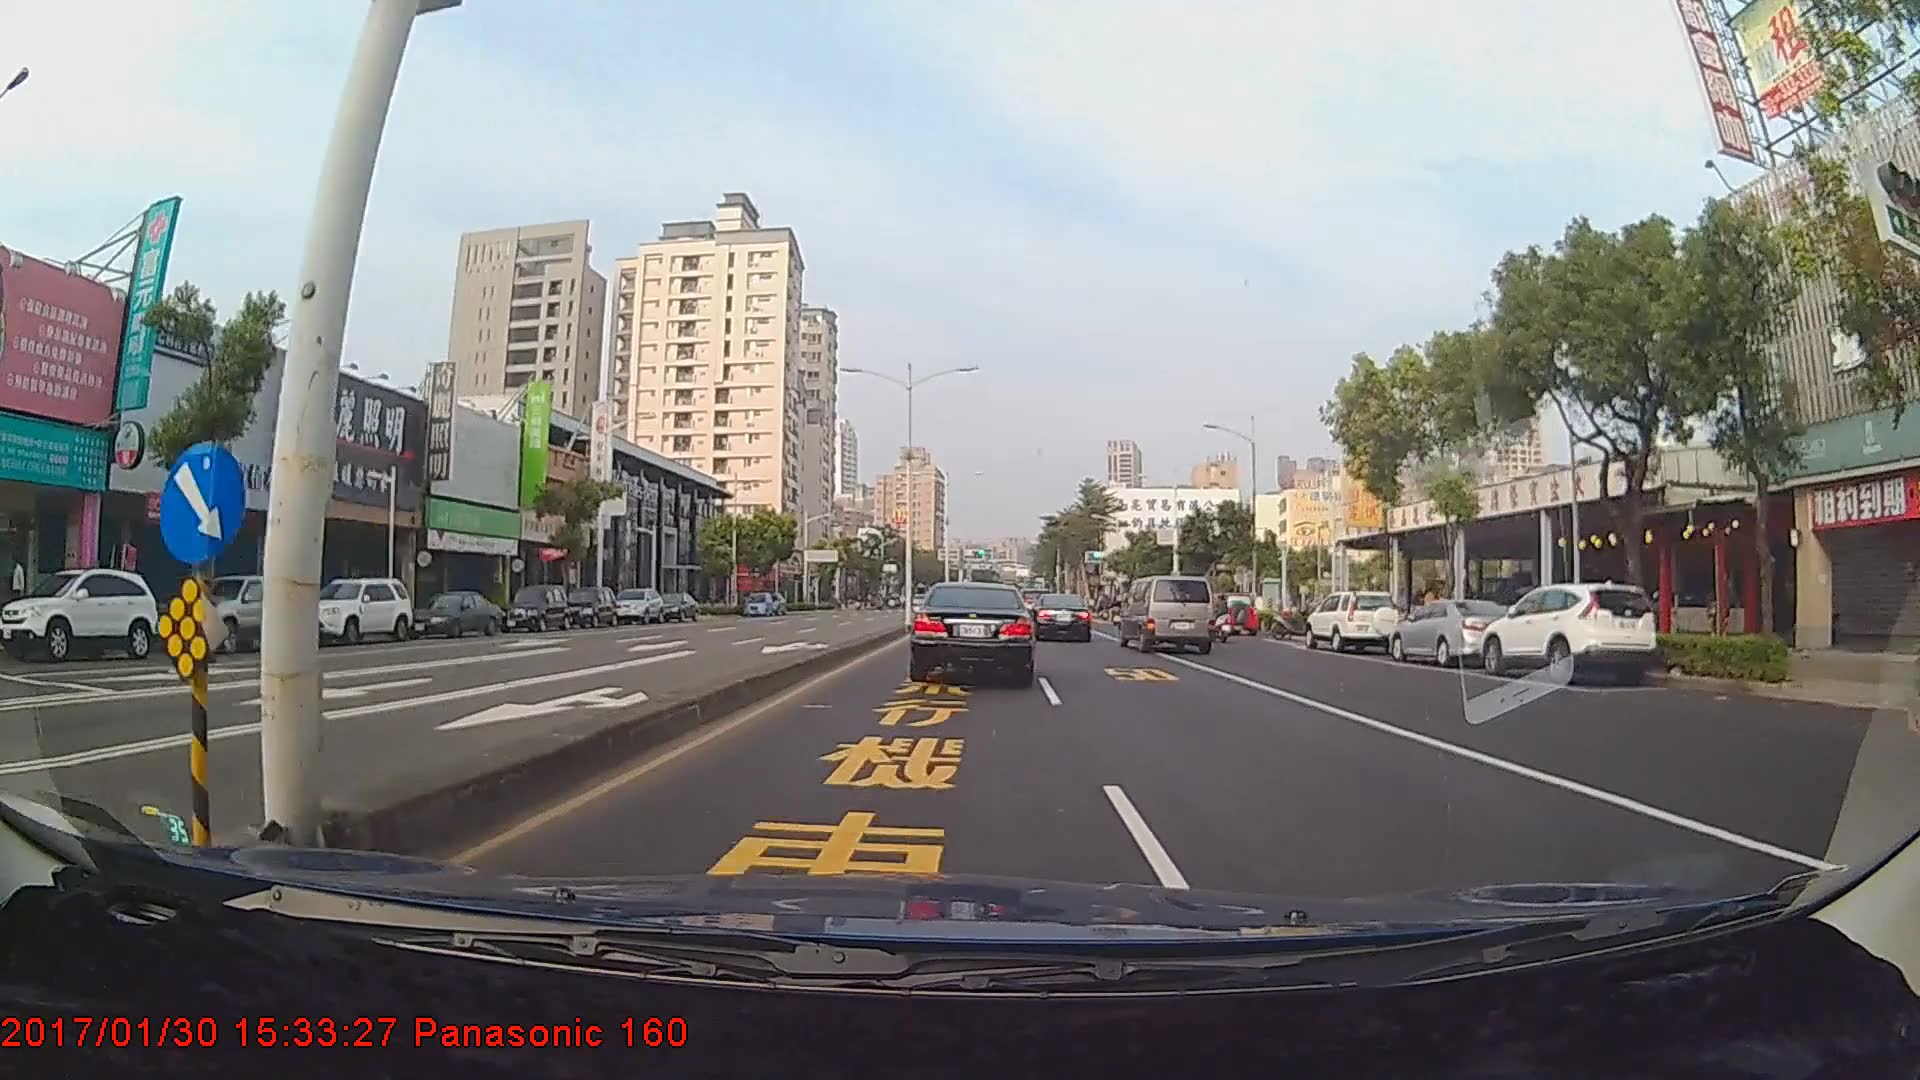pedestrian: (10, 555, 33, 630)
rider: (1211, 591, 1239, 642)
vehicle: (1479, 581, 1659, 685), (0, 569, 158, 659), (909, 580, 1037, 683), (161, 572, 306, 655), (1381, 597, 1498, 667), (301, 576, 413, 646), (1117, 575, 1213, 654), (1307, 591, 1401, 653), (408, 591, 503, 638), (501, 584, 571, 633), (1026, 593, 1093, 643), (560, 584, 616, 628), (613, 587, 667, 625), (650, 589, 698, 621), (741, 588, 772, 615)
